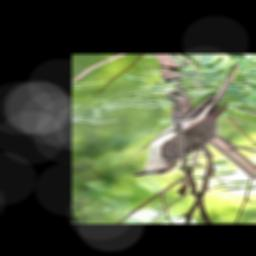Cuckoo: (133, 61, 241, 176)
